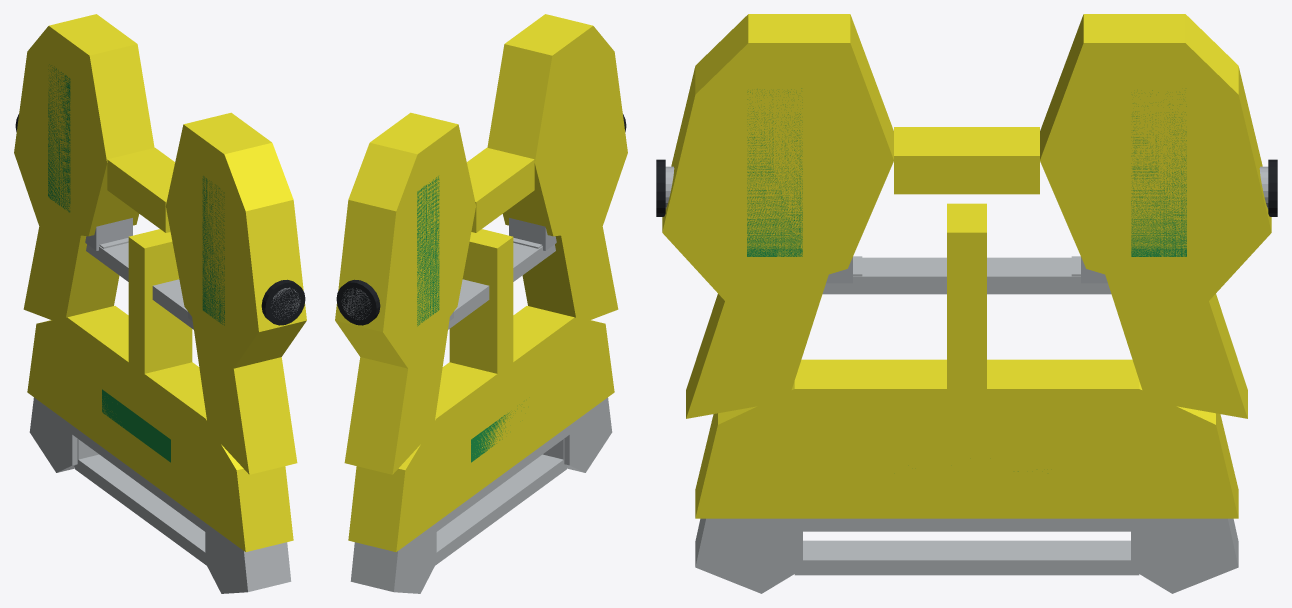
3 renders of one model, left to right at view 1: azimuth 30°, elevation 25°; view 2: azimuth 150°, elevation 25°; view 3: azimuth 270°, elevation 25°, orthographic. The views are drawn at different scales.
Parts seen in each view (by area): view 1: profile:ut25-pe, frame:ut25-pe-left-tower, frame:ut25-pe-right-tower, rib:ut25-pe-left, center-web:ut25-pe, rib:ut25-pe-right, grounding-spring:ut25-pe, din:ut25-pe-foot, marker-channel:ut25-pe, pe-band:tower-right-0, din:ut25-pe-latch, pe-band:tower-left-0 (+5 smaller); view 2: profile:ut25-pe, frame:ut25-pe-right-tower, frame:ut25-pe-left-tower, rib:ut25-pe-right, center-web:ut25-pe, rib:ut25-pe-left, grounding-spring:ut25-pe, din:ut25-pe-latch, marker-channel:ut25-pe, pe-band:tower-right-0, din:ut25-pe-foot, bridge:ut25-pe (+5 smaller); view 3: profile:ut25-pe, frame:ut25-pe-left-tower, frame:ut25-pe-right-tower, rib:ut25-pe-left, rib:ut25-pe-right, grounding-spring:ut25-pe, marker-channel:ut25-pe, center-web:ut25-pe, bridge:ut25-pe, din:ut25-pe-foot, din:ut25-pe-latch, din:ut25-pe-crown (+2 smaller).
Part boxes in pixels (x1,y1,x2,y2): profile:ut25-pe: (27, 306, 293, 551); frame:ut25-pe-left-tower: (166, 112, 306, 370); frame:ut25-pe-right-tower: (14, 14, 154, 236); rib:ut25-pe-left: (190, 301, 297, 474); center-web:ut25-pe: (128, 229, 192, 391); rib:ut25-pe-right: (23, 223, 119, 324); grounding-spring:ut25-pe: (75, 454, 206, 565); din:ut25-pe-foot: (205, 525, 291, 593); marker-channel:ut25-pe: (107, 147, 174, 232); pe-band:tower-right-0: (48, 64, 70, 212); din:ut25-pe-latch: (29, 397, 77, 472); pe-band:tower-left-0: (202, 176, 224, 325); profile:ut25-pe: (348, 306, 614, 551); frame:ut25-pe-right-tower: (335, 112, 475, 370); frame:ut25-pe-left-tower: (487, 14, 627, 236); rib:ut25-pe-right: (344, 301, 451, 474); center-web:ut25-pe: (449, 229, 513, 388); rib:ut25-pe-left: (522, 227, 618, 320); grounding-spring:ut25-pe: (435, 454, 566, 565); din:ut25-pe-latch: (350, 525, 436, 593); marker-channel:ut25-pe: (467, 147, 534, 232); pe-band:tower-right-0: (417, 176, 439, 326); din:ut25-pe-foot: (564, 397, 612, 472); bridge:ut25-pe: (448, 243, 555, 329); profile:ut25-pe: (695, 359, 1238, 518); frame:ut25-pe-left-tower: (662, 14, 893, 303); frame:ut25-pe-right-tower: (1040, 14, 1271, 304); rib:ut25-pe-left: (686, 257, 834, 418); rib:ut25-pe-right: (1099, 257, 1247, 418); grounding-spring:ut25-pe: (794, 540, 1139, 575); marker-channel:ut25-pe: (894, 127, 1039, 194); center-web:ut25-pe: (947, 203, 986, 412); bridge:ut25-pe: (822, 257, 1111, 294); din:ut25-pe-foot: (695, 518, 801, 593); din:ut25-pe-latch: (1132, 518, 1238, 593); din:ut25-pe-crown: (801, 518, 1132, 531).
Bounding box in the file's own units: 0.0052 × 0.046 × 0.0469.
